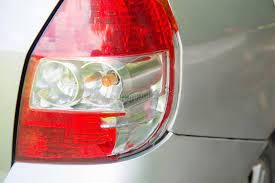Taillight-Damage: (11, 0, 196, 172)
